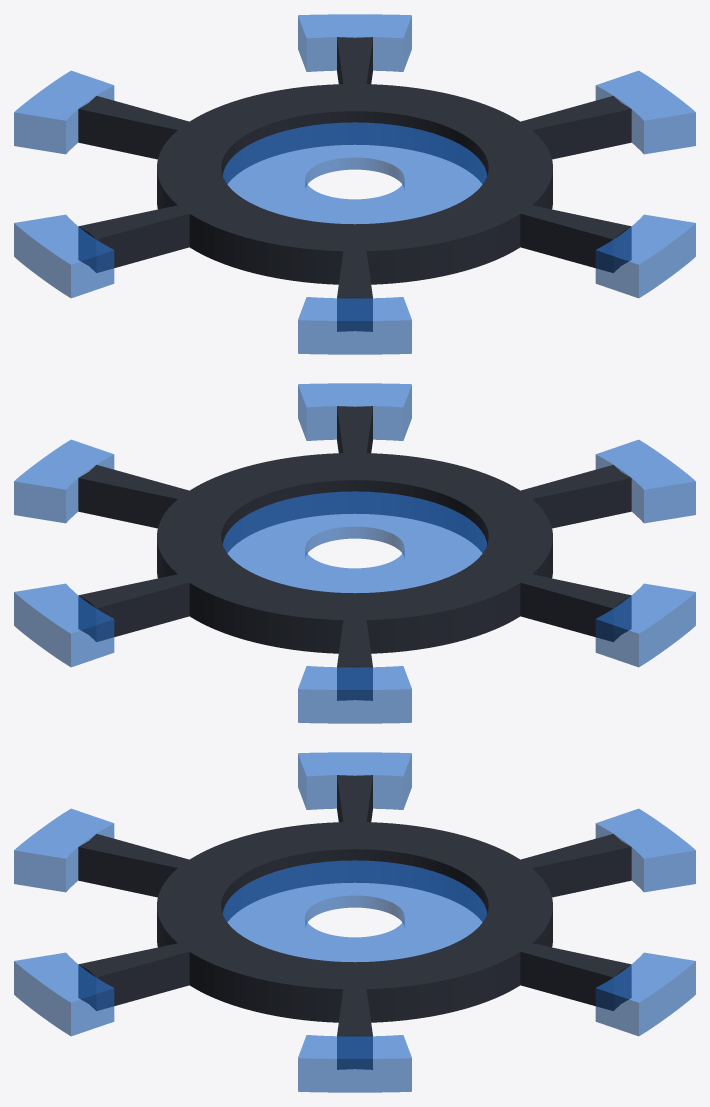
Rendered from assist_air.glb.
3 renders of one model, top to bottom at view 1: azimuth 30°, elevation 25°; view 2: azimuth 150°, elevation 25°; view 3: azimuth 270°, elevation 25°, orthographic.
Visible parts, largest first — view 1: GEO_assist_air_HUB, GEO_assist_air_NSS_V1_COLLAR, GEO_assist_air_BRIDGE_5, GEO_assist_air_BRIDGE_4, GEO_assist_air_BRIDGE_6, GEO_assist_air_SPOKE_4, GEO_assist_air_SPOKE_6, GEO_assist_air_BRIDGE_2, GEO_assist_air_BRIDGE_1, GEO_assist_air_BRIDGE_3, GEO_assist_air_SPOKE_1, GEO_assist_air_SPOKE_3 (+2 smaller); view 2: GEO_assist_air_HUB, GEO_assist_air_NSS_V1_COLLAR, GEO_assist_air_BRIDGE_3, GEO_assist_air_BRIDGE_2, GEO_assist_air_BRIDGE_4, GEO_assist_air_SPOKE_2, GEO_assist_air_SPOKE_4, GEO_assist_air_BRIDGE_6, GEO_assist_air_BRIDGE_1, GEO_assist_air_BRIDGE_5, GEO_assist_air_SPOKE_1, GEO_assist_air_SPOKE_5 (+2 smaller); view 3: GEO_assist_air_HUB, GEO_assist_air_NSS_V1_COLLAR, GEO_assist_air_BRIDGE_1, GEO_assist_air_BRIDGE_2, GEO_assist_air_BRIDGE_6, GEO_assist_air_SPOKE_2, GEO_assist_air_SPOKE_6, GEO_assist_air_BRIDGE_4, GEO_assist_air_BRIDGE_3, GEO_assist_air_BRIDGE_5, GEO_assist_air_SPOKE_3, GEO_assist_air_SPOKE_5 (+2 smaller).
Boxes of the visible parts, x1,y1,x2,y2 form: GEO_assist_air_HUB: (157,84,552,284); GEO_assist_air_NSS_V1_COLLAR: (223,122,486,224); GEO_assist_air_BRIDGE_5: (298,297,411,354); GEO_assist_air_BRIDGE_4: (14,214,114,298); GEO_assist_air_BRIDGE_6: (595,214,695,298); GEO_assist_air_SPOKE_4: (78,205,189,272); GEO_assist_air_SPOKE_6: (520,205,631,272); GEO_assist_air_BRIDGE_2: (298,14,411,71); GEO_assist_air_BRIDGE_1: (595,70,695,154); GEO_assist_air_BRIDGE_3: (14,70,114,154); GEO_assist_air_SPOKE_1: (521,96,631,159); GEO_assist_air_SPOKE_3: (78,96,188,159); GEO_assist_air_HUB: (157,453,552,653); GEO_assist_air_NSS_V1_COLLAR: (223,491,486,593); GEO_assist_air_BRIDGE_3: (298,666,411,723); GEO_assist_air_BRIDGE_2: (14,583,114,667); GEO_assist_air_BRIDGE_4: (595,583,695,667); GEO_assist_air_SPOKE_2: (78,574,189,641); GEO_assist_air_SPOKE_4: (520,574,631,641); GEO_assist_air_BRIDGE_6: (298,383,411,440); GEO_assist_air_BRIDGE_1: (14,439,114,523); GEO_assist_air_BRIDGE_5: (595,439,695,523); GEO_assist_air_SPOKE_1: (78,465,188,528); GEO_assist_air_SPOKE_5: (521,465,631,528); GEO_assist_air_HUB: (157,822,552,1022); GEO_assist_air_NSS_V1_COLLAR: (223,860,486,962); GEO_assist_air_BRIDGE_1: (298,1035,411,1092); GEO_assist_air_BRIDGE_2: (595,952,695,1036); GEO_assist_air_BRIDGE_6: (14,952,114,1036); GEO_assist_air_SPOKE_2: (520,943,631,1010); GEO_assist_air_SPOKE_6: (78,943,189,1010); GEO_assist_air_BRIDGE_4: (298,752,411,809); GEO_assist_air_BRIDGE_3: (595,808,695,892); GEO_assist_air_BRIDGE_5: (14,808,114,892); GEO_assist_air_SPOKE_3: (521,834,631,897); GEO_assist_air_SPOKE_5: (78,834,188,897).
Bounding box in the file's own units: 0.0586 × 0.003 × 0.0551.
